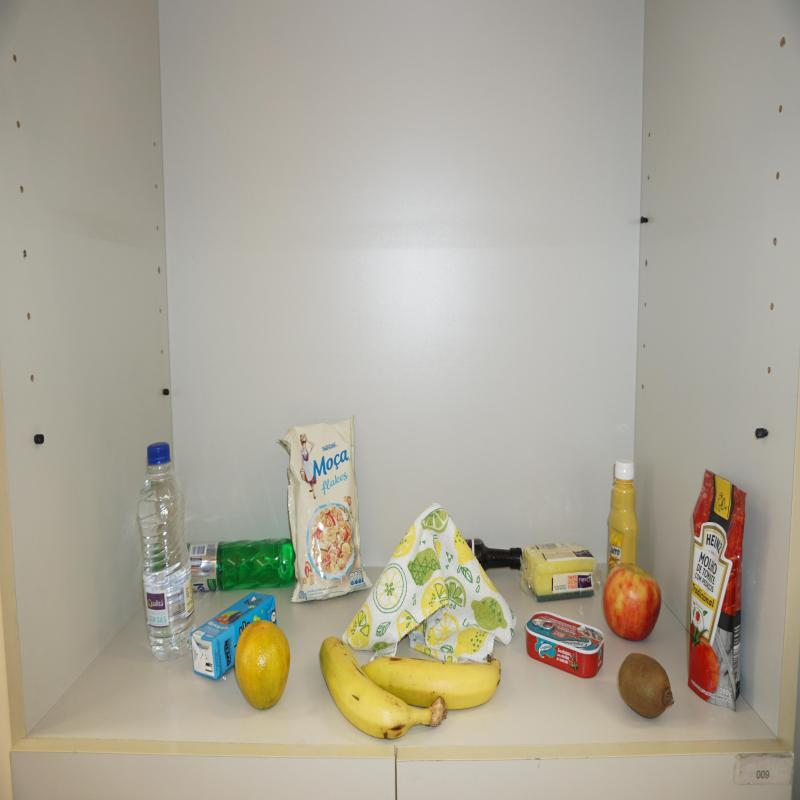Apple: (603, 563, 662, 642)
Banana: (319, 637, 447, 740), (361, 657, 500, 710)
Cleaner: (189, 538, 296, 592)
Cloth: (342, 503, 513, 664)
CoconutWater: (190, 592, 276, 680)
CornFlakes: (276, 416, 372, 604)
EnglishSauce: (468, 539, 524, 573)
Kiwi: (618, 653, 676, 721)
Mustard: (608, 462, 639, 576)
Orange: (235, 621, 291, 711)
Sponge: (519, 544, 598, 607)
TomatoSauce: (688, 470, 746, 712)
TunaCan: (525, 612, 604, 679)
Water: (139, 442, 195, 662)
